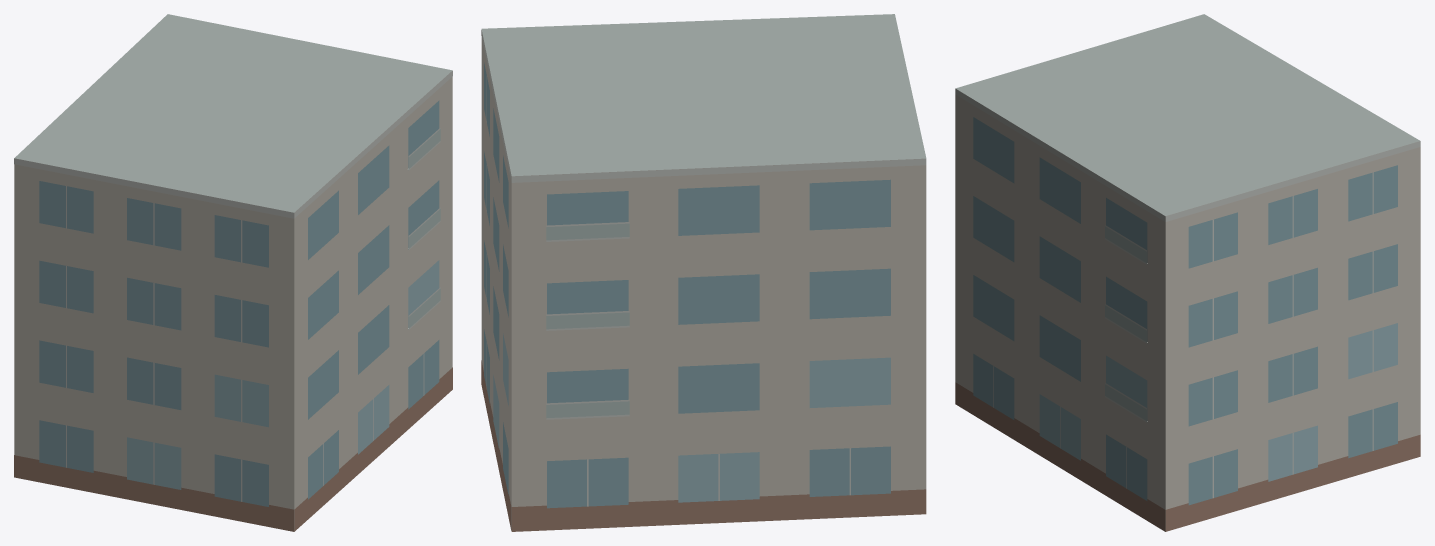
The model's file is survey-upis-32711827.glb.
3 views of the same model, side by side, from view 1: azimuth 30°, elevation 25°; view 2: azimuth 150°, elevation 25°; view 3: azimuth 270°, elevation 25° (orthographic). The views are drawn at different scales.
Parts seen in each view (by area): view 1: survey-upis-32711827.tmp; view 2: survey-upis-32711827.tmp; view 3: survey-upis-32711827.tmp.
Part boxes in pixels (left/top/right/bottom): survey-upis-32711827.tmp: left=14, top=14, right=452, bottom=531; survey-upis-32711827.tmp: left=481, top=14, right=926, bottom=531; survey-upis-32711827.tmp: left=955, top=14, right=1420, bottom=531.
Size of the model in its own units: 17.87 by 13 by 17.38.
